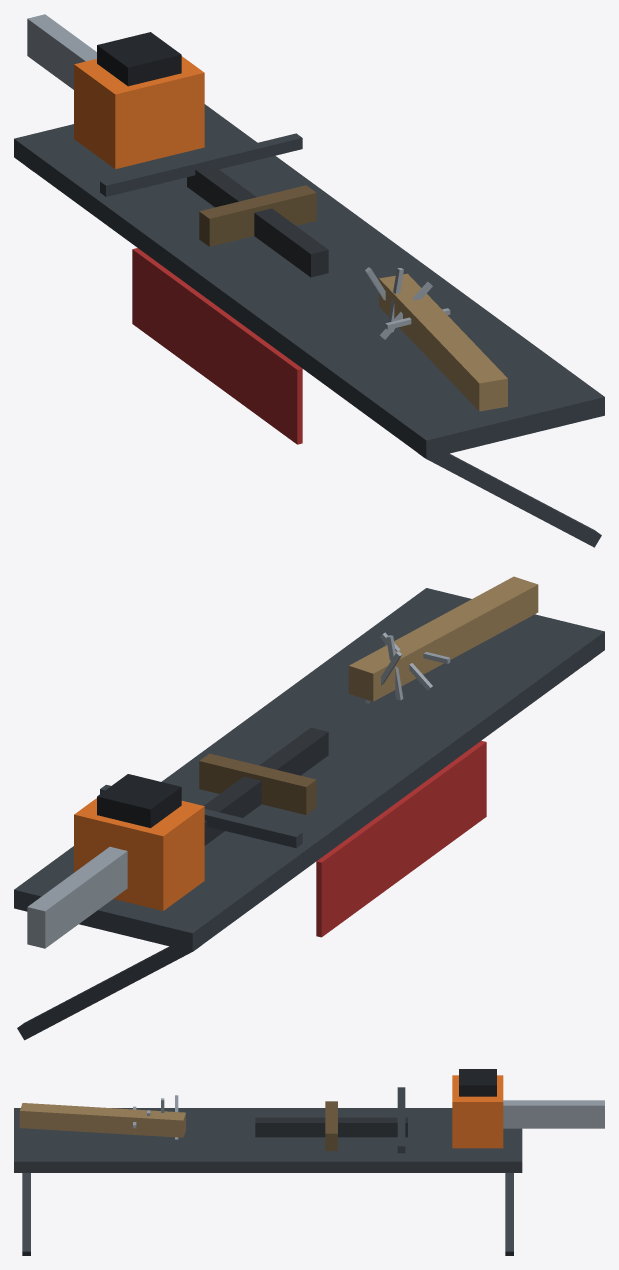
File: egg_carrier_notissue.fbx
The picture shows the model from 3 angles, top to bottom: view 1: azimuth 30°, elevation 25°; view 2: azimuth 150°, elevation 25°; view 3: azimuth 270°, elevation 25°; orthographic projection. The views are drawn at different scales.
Parts seen in each view (by area): view 1: egg_carrier_notissue; view 2: egg_carrier_notissue; view 3: egg_carrier_notissue.
Part boxes in pixels (x1,y1,x2,y2): egg_carrier_notissue: (14, 14, 604, 547); egg_carrier_notissue: (14, 576, 604, 1040); egg_carrier_notissue: (14, 1069, 604, 1255).
Bounding box in the file's own units: 220 × 266 × 930.
